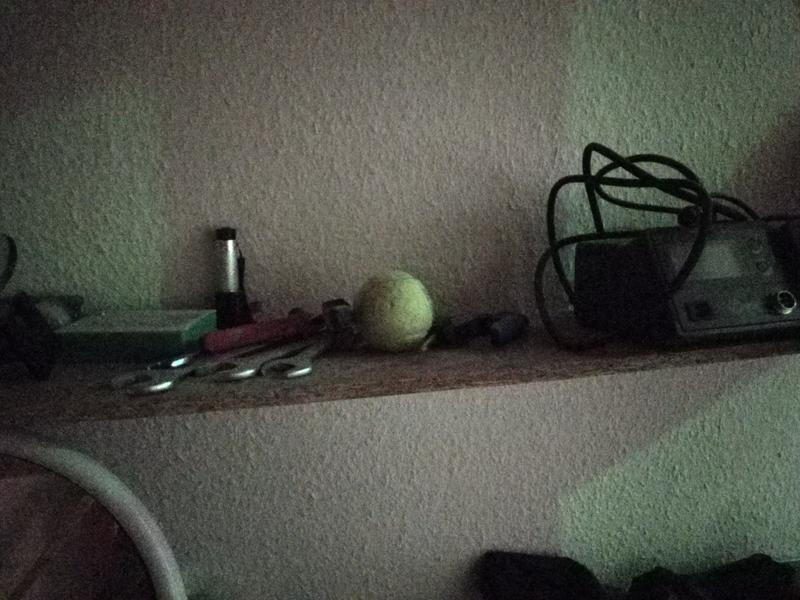Tennisball: (350, 267, 437, 359)
